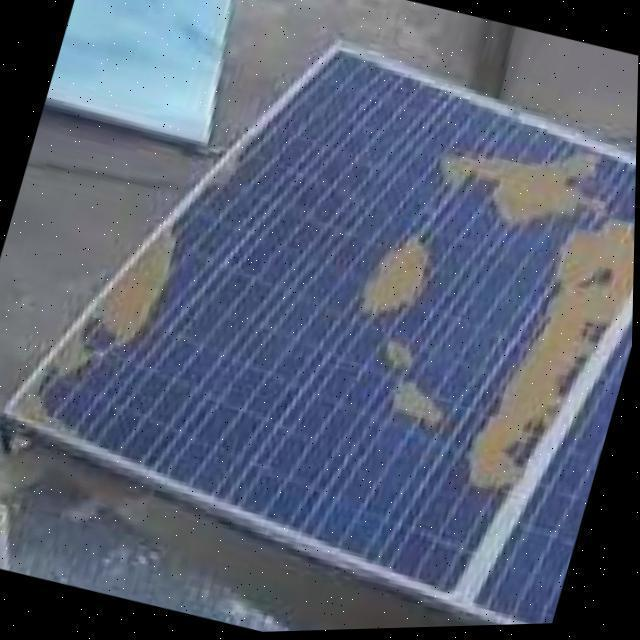Anomaly Solar Panel: (6, 44, 637, 598)
Surface Contaminant: (445, 199, 636, 511), (43, 220, 208, 398), (432, 144, 604, 233), (358, 330, 453, 446), (347, 231, 441, 333)
